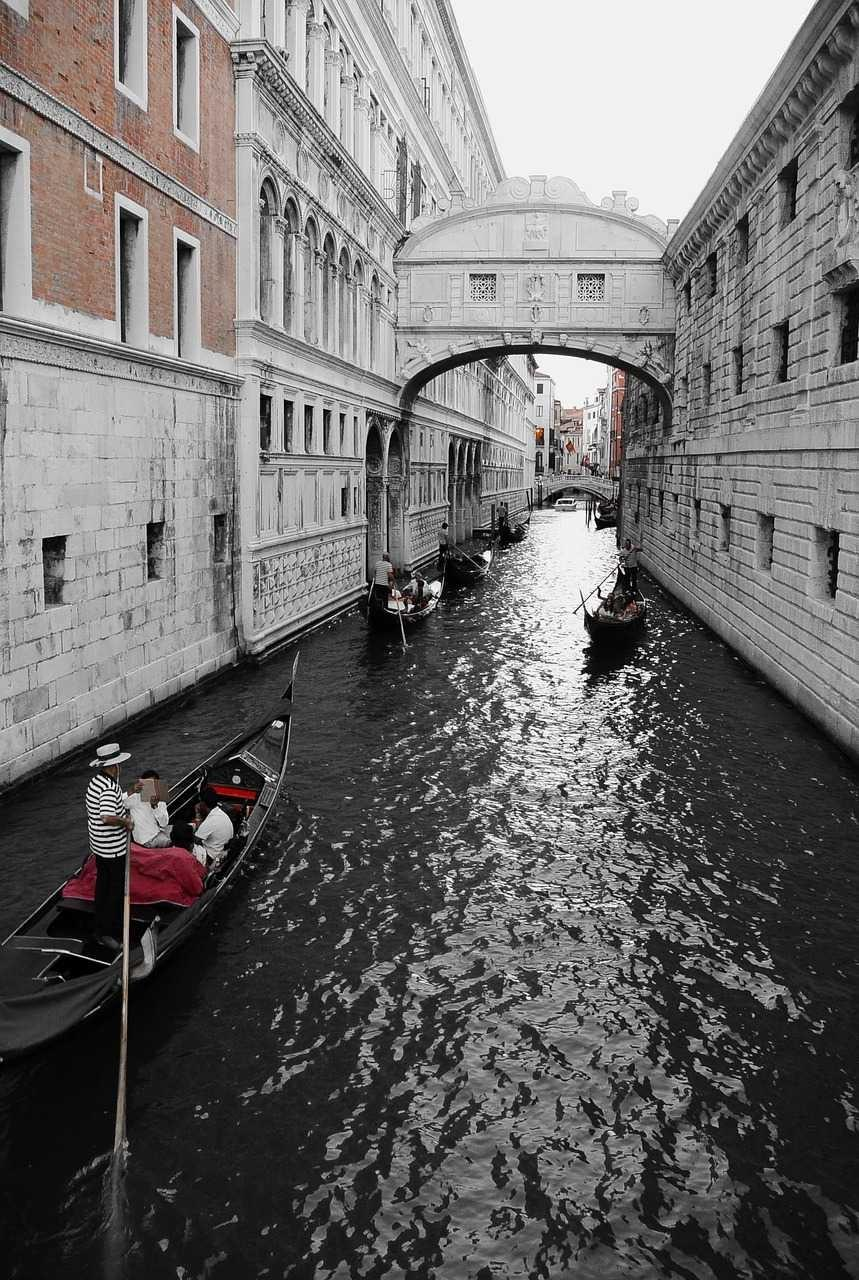kayak: (3, 650, 301, 1058), (579, 552, 647, 647), (364, 582, 441, 634), (441, 546, 492, 589), (586, 498, 619, 529)
